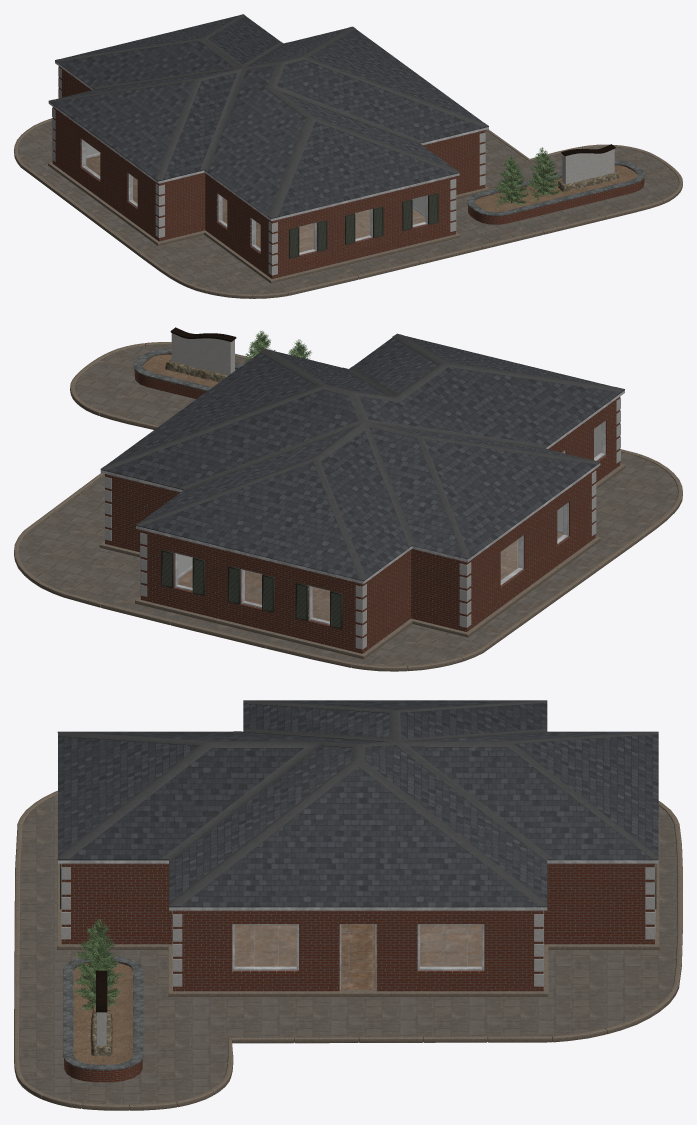
File: commercial-building-small.glb
3 renders of one model, top to bottom at view 1: azimuth 30°, elevation 25°; view 2: azimuth 150°, elevation 25°; view 3: azimuth 270°, elevation 25°, orthographic. The views are drawn at different scales.
Parts seen in each view (by area): view 1: Roof, Walls, Plot, Roof Trim, Curb, Base Slab, Brick Planter, Windows, Shudders, Column Decor, Soil, Stone Sign (+5 smaller); view 2: Roof, Walls, Plot, Roof Trim, Curb, Base Slab, Windows, Column Decor, Shudders.001, Stone Sign, Roof Overhangs, Brick Planter (+3 smaller); view 3: Roof, Plot, Walls, Roof Trim, Base Slab, Curb, Windows, Brick Planter, Soil, Column Decor, Roof Overhangs, Frames (+4 smaller).
Boxes of the visible parts, x1,y1,x2,y2 form: Roof: (49, 15, 488, 218); Walls: (52, 66, 485, 278); Plot: (18, 120, 678, 294); Roof Trim: (49, 14, 488, 218); Curb: (14, 118, 682, 298); Base Slab: (48, 155, 489, 283); Brick Planter: (467, 161, 644, 224); Windows: (83, 140, 425, 252); Shudders: (289, 193, 438, 258); Column Decor: (52, 67, 485, 275); Soil: (475, 165, 637, 211); Stone Sign: (561, 144, 615, 184); Roof: (100, 335, 624, 581); Walls: (105, 397, 620, 653); Plot: (19, 344, 678, 665); Roof Trim: (101, 333, 624, 580); Curb: (14, 342, 682, 671); Base Slab: (99, 463, 625, 659); Windows: (177, 422, 603, 622); Column Decor: (104, 398, 620, 649); Shudders.001: (161, 550, 342, 629); Stone Sign: (170, 327, 236, 375); Roof Overhangs: (100, 390, 624, 583); Brick Planter: (133, 348, 242, 398); Roof: (58, 700, 658, 907); Plot: (19, 794, 677, 1104); Walls: (61, 863, 654, 991); Roof Trim: (57, 700, 658, 906); Base Slab: (57, 818, 659, 996); Curb: (14, 790, 682, 1110); Windows: (235, 925, 481, 967); Brick Planter: (63, 956, 143, 1082); Soil: (73, 962, 132, 1064); Column Decor: (61, 864, 655, 986); Roof Overhangs: (58, 860, 658, 910); Frames: (232, 924, 484, 990).
Bounding box in the file's own units: 2117 × 481 × 1804.
18 materials, 15 textured.
